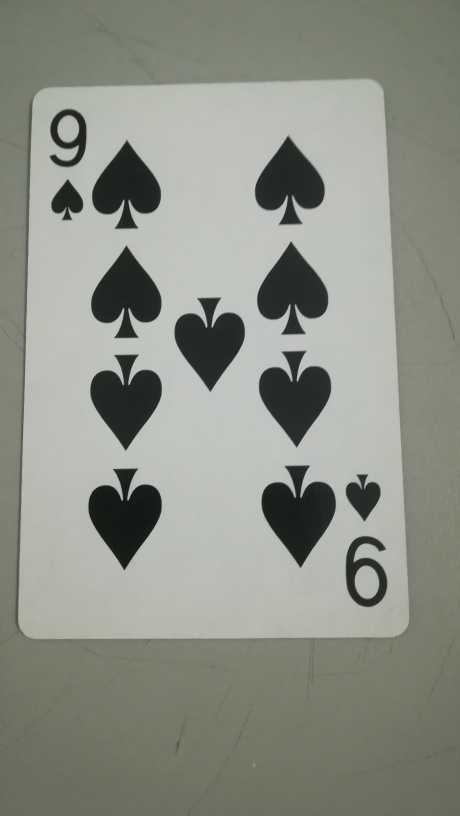ht 9: (15, 77, 406, 643)
